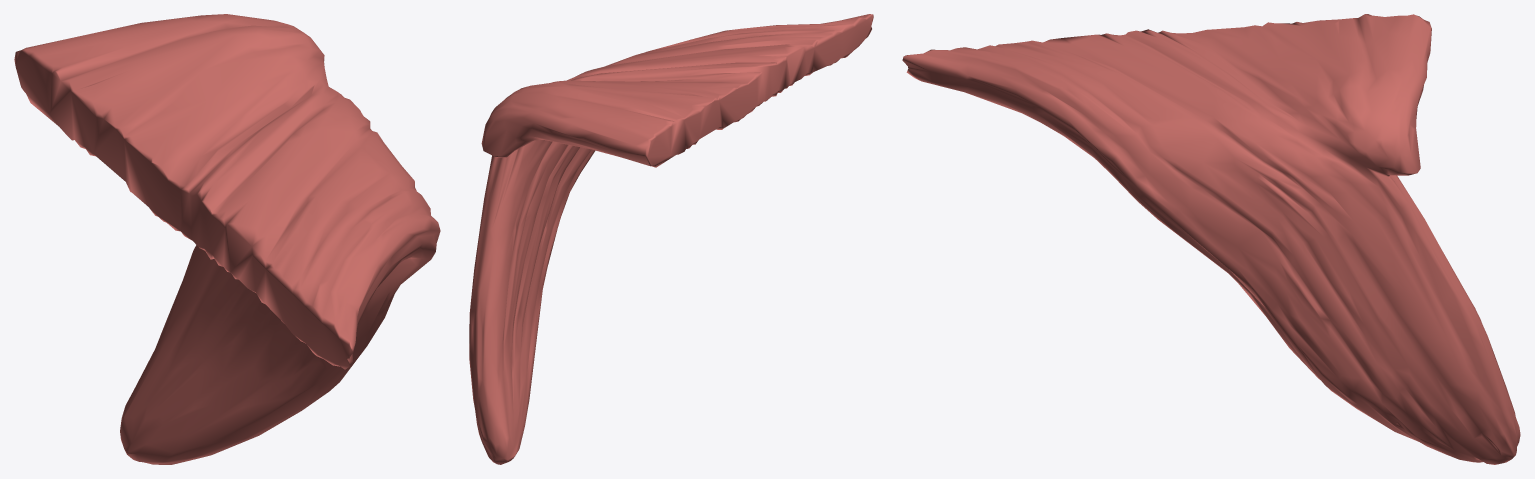
3 renders of one model, left to right at view 1: azimuth 30°, elevation 25°; view 2: azimuth 150°, elevation 25°; view 3: azimuth 270°, elevation 25°, orthographic. The views are drawn at different scales.
Visible parts, largest first — view 1: 左侧咽中缩肌; view 2: 左侧咽中缩肌; view 3: 左侧咽中缩肌.
Boxes of the visible parts, box(x1,y1,x2,y2) form: 左侧咽中缩肌: box(14, 14, 440, 464); 左侧咽中缩肌: box(469, 14, 873, 464); 左侧咽中缩肌: box(902, 14, 1520, 464).
Bounding box in the file's own units: 0.0277 × 0.0465 × 0.0674.
